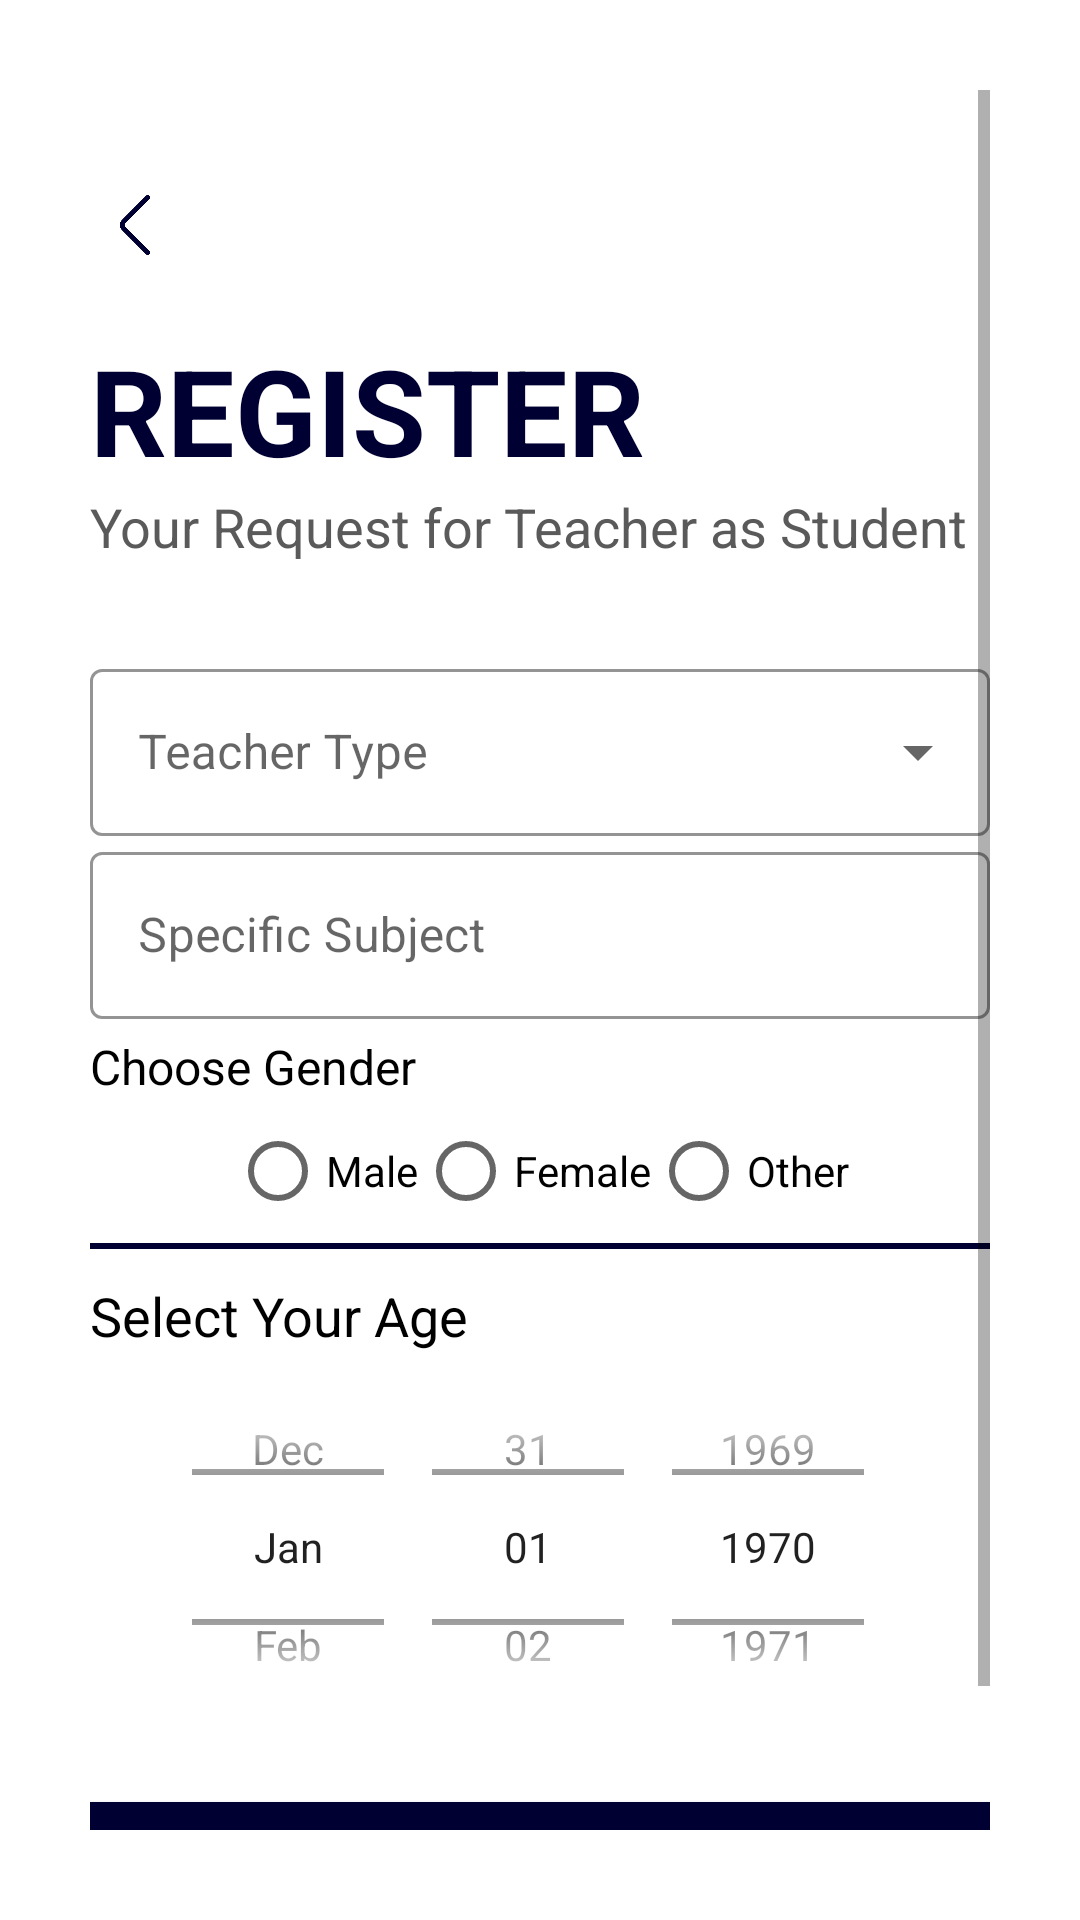

Named icons in this screenshot (1080×1920) and their bounding boxes, (x1,y1,x2,y2):
leftarrow: (120,195,150,255)
